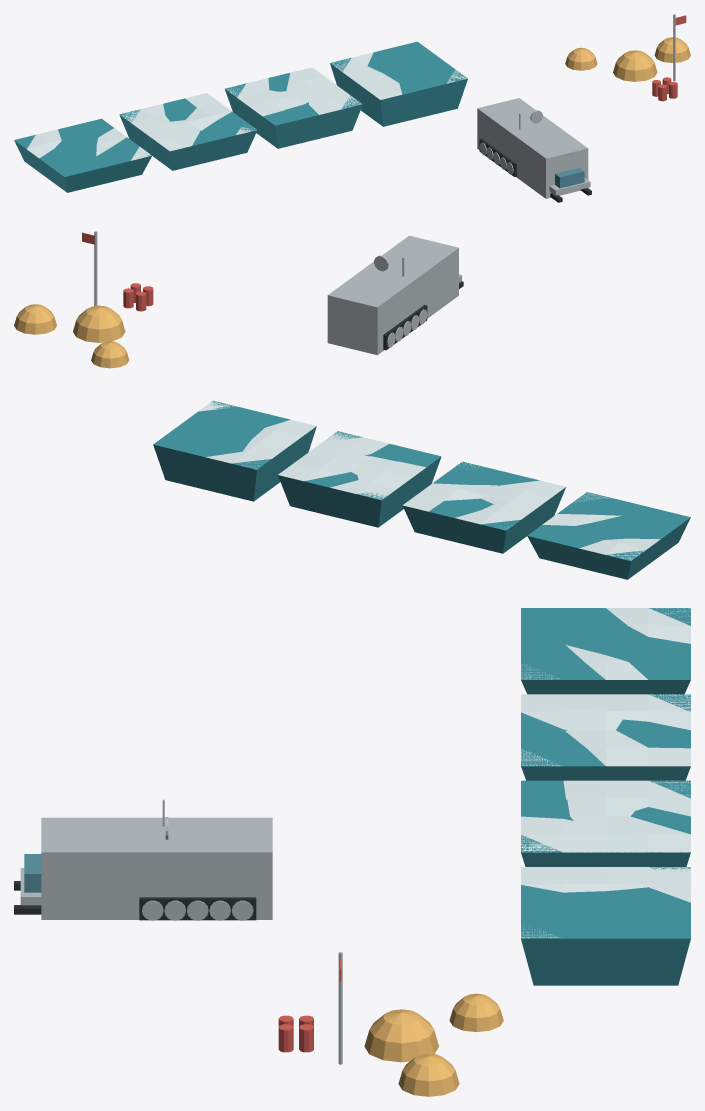
Rendered from expedition.glb.
The picture shows the model from 3 angles, top to bottom: view 1: azimuth 30°, elevation 25°; view 2: azimuth 150°, elevation 25°; view 3: azimuth 270°, elevation 25°; orthographic projection. The views are drawn at different scales.
Visible parts, largest first — view 1: IceChunk_D_Body, Proxy_Rover, IceChunk_A_Body, IceChunk_B_Body, IceChunk_C_Body, IceChunk_C_Top, IceChunk_B_Top, Camp, IceChunk_D_Top, IceChunk_A_Top, Sled, Rover (+1 smaller); view 2: Proxy_Rover, IceChunk_D_Body, IceChunk_A_Body, IceChunk_B_Body, IceChunk_C_Body, IceChunk_C_Top, Camp, IceChunk_B_Top, IceChunk_D_Top, IceChunk_A_Top; view 3: Proxy_Rover, IceChunk_D_Body, IceChunk_A_Body, IceChunk_C_Top, IceChunk_B_Top, Camp, IceChunk_B_Body, IceChunk_C_Body, IceChunk_D_Top, IceChunk_A_Top, Rover, Rover_Track_R.
Part boxes in pixels (x1=…): IceChunk_D_Body: x1=330, y1=41, x2=467, y2=126; Proxy_Rover: x1=477, y1=98, x2=588, y2=198; IceChunk_A_Body: x1=14, y1=118, x2=151, y2=192; IceChunk_B_Body: x1=119, y1=98, x2=257, y2=170; IceChunk_C_Body: x1=225, y1=73, x2=362, y2=148; IceChunk_C_Top: x1=227, y1=67, x2=360, y2=116; IceChunk_B_Top: x1=120, y1=93, x2=256, y2=151; Camp: x1=565, y1=37, x2=690, y2=101; IceChunk_D_Top: x1=332, y1=52, x2=467, y2=99; IceChunk_A_Top: x1=27, y1=128, x2=150, y2=160; Sled: x1=555, y1=168, x2=584, y2=188; Rover: x1=479, y1=142, x2=513, y2=174; Proxy_Rover: x1=327, y1=235, x2=458, y2=355; IceChunk_D_Body: x1=153, y1=400, x2=316, y2=501; IceChunk_A_Body: x1=527, y1=492, x2=690, y2=579; IceChunk_B_Body: x1=402, y1=461, x2=565, y2=553; IceChunk_C_Body: x1=278, y1=431, x2=441, y2=527; IceChunk_C_Top: x1=278, y1=432, x2=425, y2=499; Camp: x1=14, y1=283, x2=153, y2=368; IceChunk_B_Top: x1=403, y1=462, x2=565, y2=528; IceChunk_D_Top: x1=198, y1=401, x2=316, y2=469; IceChunk_A_Top: x1=542, y1=492, x2=660, y2=560; Proxy_Rover: x1=41, y1=817, x2=272, y2=919; IceChunk_D_Body: x1=521, y1=867, x2=690, y2=985; IceChunk_A_Body: x1=521, y1=608, x2=690, y2=694; IceChunk_C_Top: x1=521, y1=780, x2=690, y2=852; IceChunk_B_Top: x1=521, y1=694, x2=690, y2=766; Camp: x1=278, y1=993, x2=503, y2=1096; IceChunk_B_Body: x1=521, y1=694, x2=690, y2=780; IceChunk_C_Body: x1=521, y1=780, x2=690, y2=866; IceChunk_D_Top: x1=521, y1=867, x2=690, y2=938; IceChunk_A_Top: x1=521, y1=608, x2=690, y2=679; Rover: x1=142, y1=900, x2=253, y2=920; Rover_Track_R: x1=139, y1=897, x2=256, y2=920.
Size of the model in its own units: 17 by 2.65 by 9.95.
